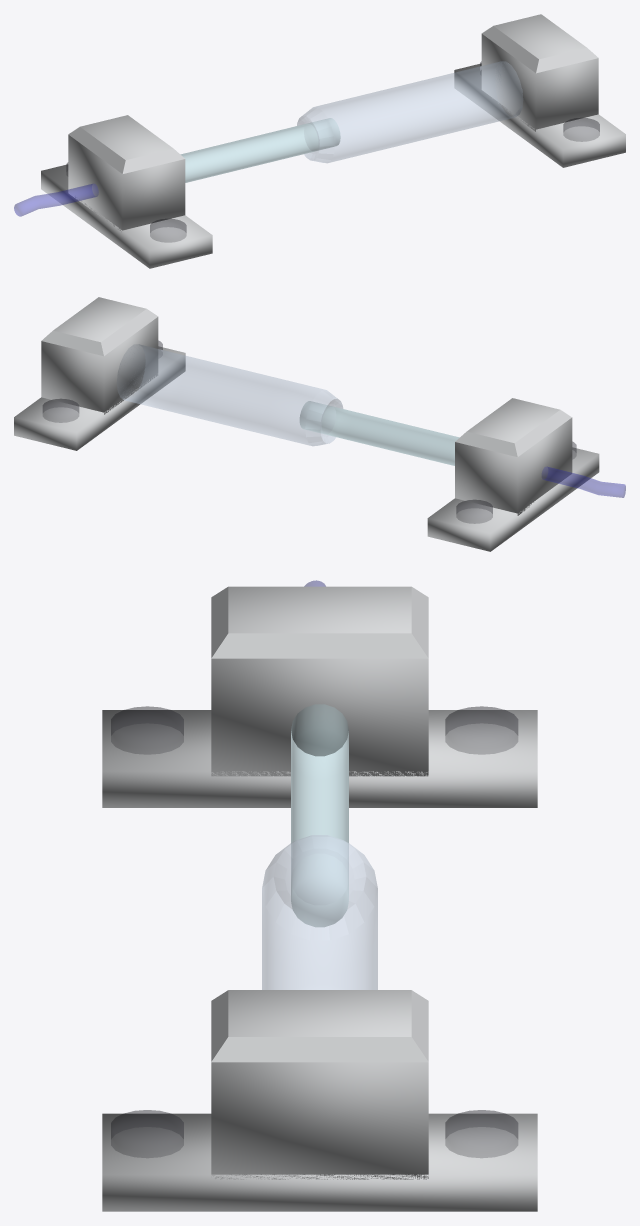
Rendered from 裂缝针.glb.
The picture shows the model from 3 angles, top to bottom: view 1: azimuth 30°, elevation 25°; view 2: azimuth 150°, elevation 25°; view 3: azimuth 270°, elevation 25°; orthographic projection. The views are drawn at different scales.
Visible parts, largest first — view 1: 裂缝计; view 2: 裂缝计; view 3: 裂缝计.
Boxes of the visible parts, x1,y1,x2,y2 form: 裂缝计: (14,14,625,268); 裂缝计: (14,297,625,551); 裂缝计: (102,580,537,1211).
Bounding box in the file's own units: 177 × 25.49 × 60.
